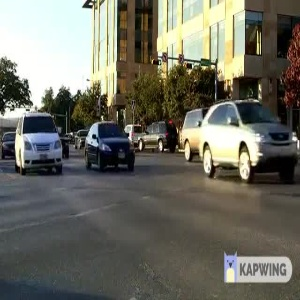car: (81, 118, 133, 182)
suv: (196, 97, 300, 182)
van: (11, 109, 61, 183)
